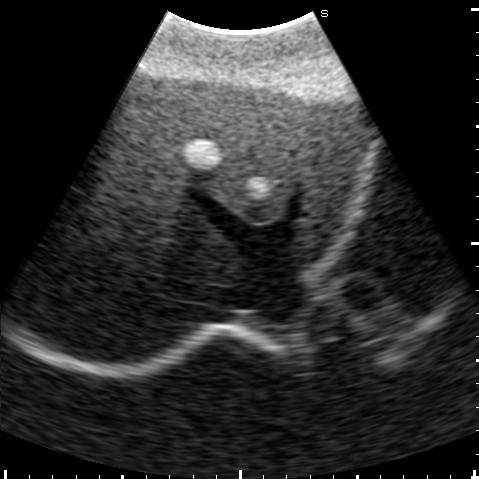S2: (293, 119, 362, 267)
S4: (120, 77, 310, 224)
S7: (22, 241, 190, 364)
S8: (69, 111, 235, 282)
Tumor: (179, 138, 224, 172), (247, 177, 268, 198)
